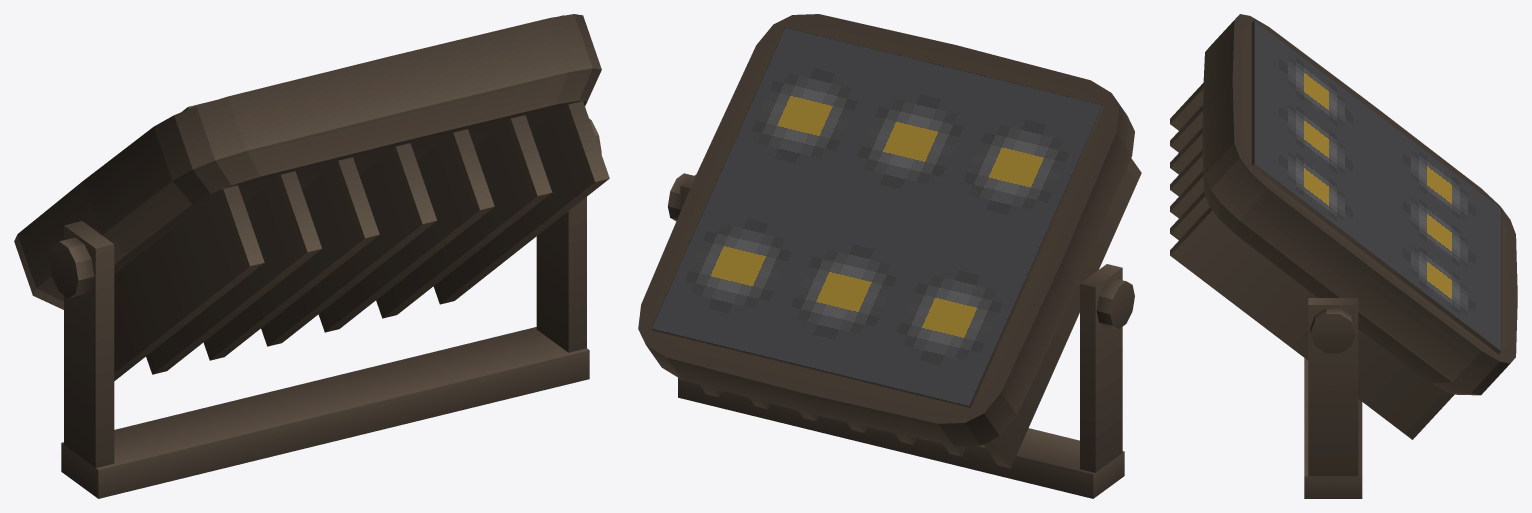
Rendered from floodlight_geefmyk_g.obj.
3 renders of one model, left to right at view 1: azimuth 30°, elevation 25°; view 2: azimuth 150°, elevation 25°; view 3: azimuth 270°, elevation 25°, orthographic. The views are drawn at different scales.
Visible parts, largest first — view 1: fixture; view 2: fixture; view 3: fixture.
Part boxes in pixels (x1,y1,x2,y2): fixture: (14,14,609,498); fixture: (638,14,1141,498); fixture: (1170,14,1517,498).
Size of the model in its own units: 0.7107 by 0.5401 by 0.5236.
